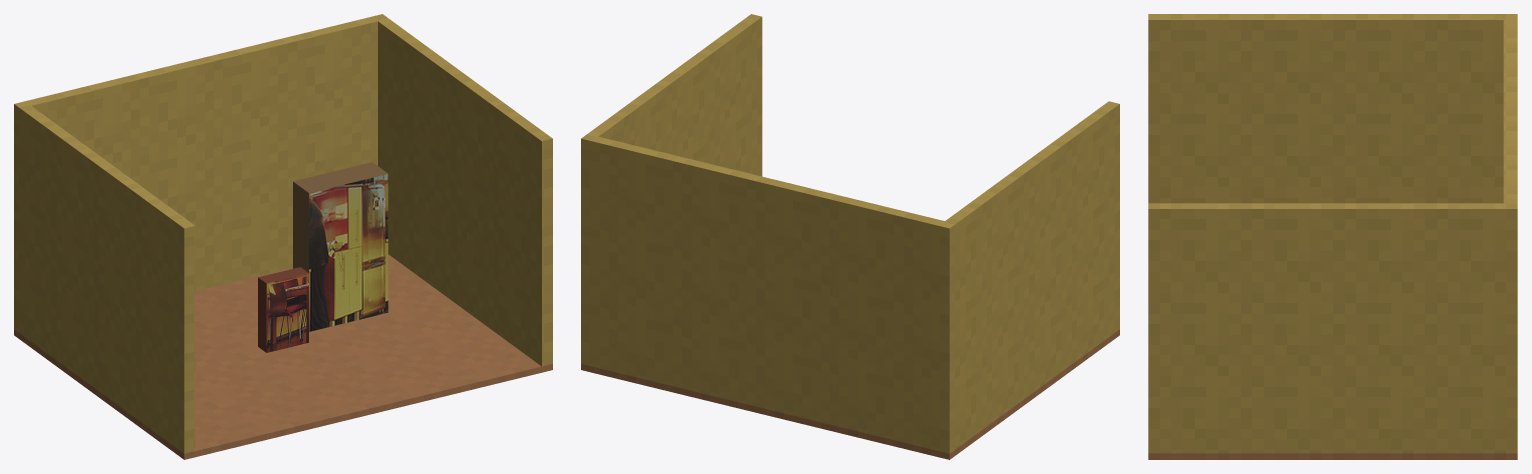
The picture shows the model from 3 angles, left to right: view 1: azimuth 30°, elevation 25°; view 2: azimuth 150°, elevation 25°; view 3: azimuth 270°, elevation 25°; orthographic projection. The views are drawn at different scales.
Parts seen in each view (by area): view 1: Cube, box.001, box.002; view 2: Cube; view 3: Cube.
Part boxes in pixels (x1,y1,x2,y2): Cube: (14,14,552,459); box.001: (293,162,388,331); box.002: (258,267,308,352); Cube: (581,14,1119,459); Cube: (1148,14,1517,459).
Bounding box in the file's own units: 5 × 3 × 4.
8 materials, 8 textured.
